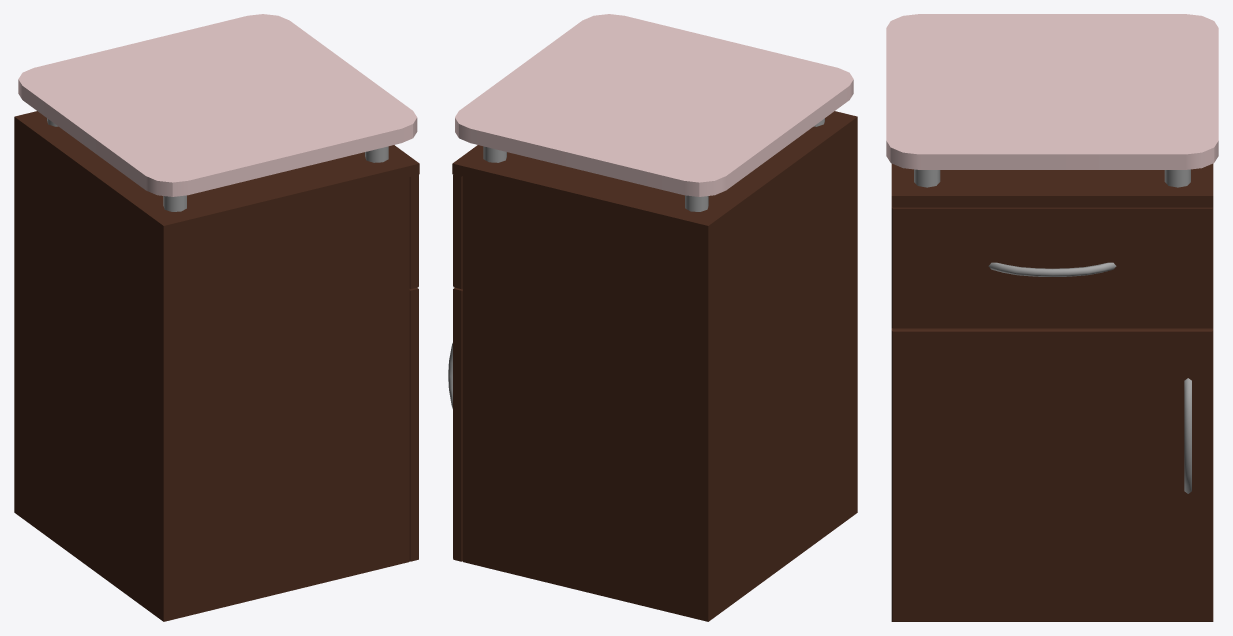
The model's file is Nightstand_v1.fbx.
3 renders of one model, left to right at view 1: azimuth 30°, elevation 25°; view 2: azimuth 150°, elevation 25°; view 3: azimuth 270°, elevation 25°, orthographic. The views are drawn at different scales.
Visible parts, largest first — view 1: Room1_Nightstand, Door, Drawer; view 2: Room1_Nightstand, Door, Drawer; view 3: Door, Room1_Nightstand, Drawer.
Part boxes in pixels (x1,y1,x2,y2): Room1_Nightstand: (14,14,419,621); Door: (409,288,418,561); Drawer: (409,174,418,289); Room1_Nightstand: (452,14,857,621); Door: (448,287,462,561); Drawer: (453,174,462,289); Door: (891,328,1213,621); Room1_Nightstand: (886,14,1218,207); Drawer: (891,207,1213,328).
Bounding box in the file's own units: 62.77 × 94.86 × 60.62.
